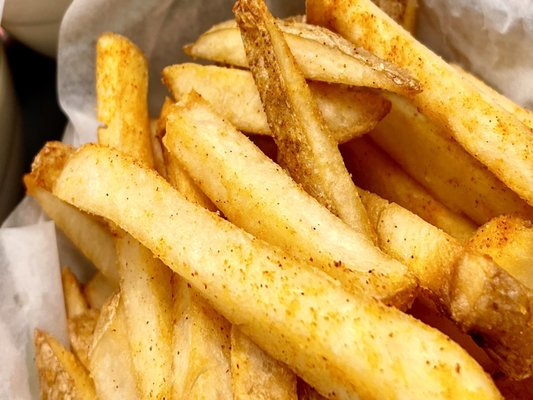soup: (101, 2, 532, 398)
